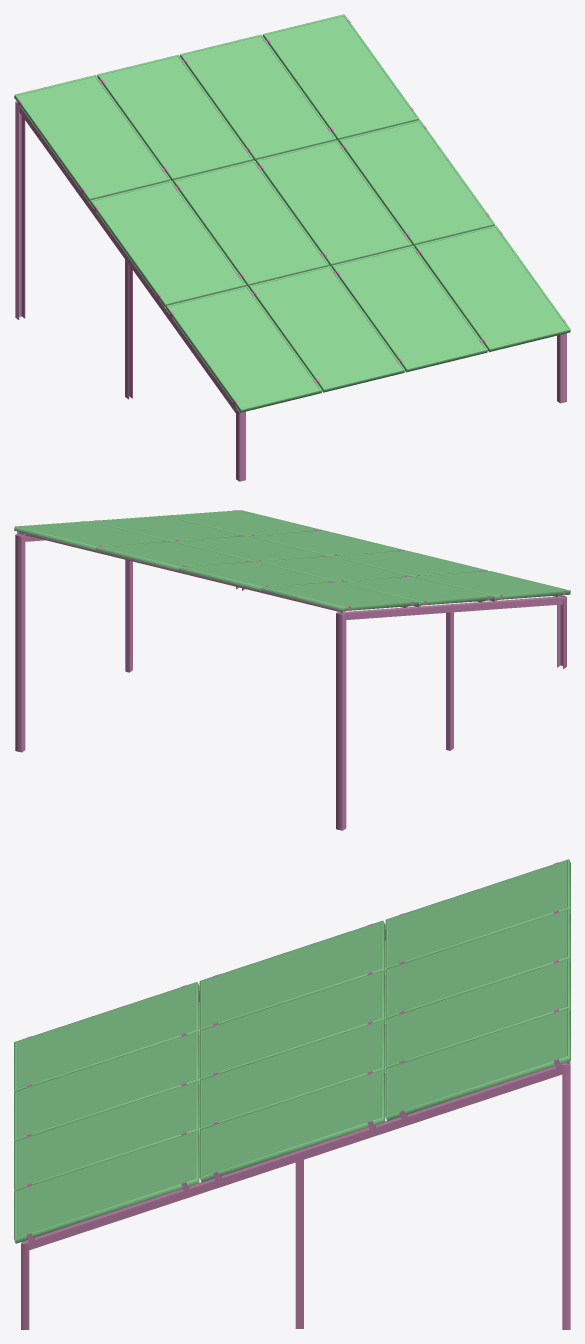
File: Panel_3_Start.fbx
3 renders of one model, top to bottom at view 1: azimuth 30°, elevation 25°; view 2: azimuth 150°, elevation 25°; view 3: azimuth 270°, elevation 25°, orthographic. The views are drawn at different scales.
Visible parts, largest first — view 1: Panel_3_Start_LOD0; view 2: Panel_3_Start_LOD0; view 3: Panel_3_Start_LOD0.
Part boxes in pixels (<box>): Panel_3_Start_LOD0: <box>14,14,570,481</box>; Panel_3_Start_LOD0: <box>14,510,570,830</box>; Panel_3_Start_LOD0: <box>14,859,570,1329</box>.
Size of what is drawn, in the model's own units: 4.07 by 2.63 by 4.84.
